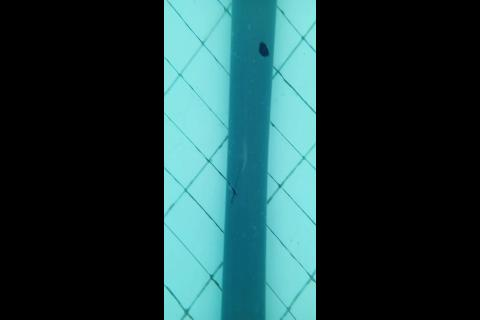kebocoran: (257, 40, 270, 58)
keretakan: (227, 168, 242, 206)
